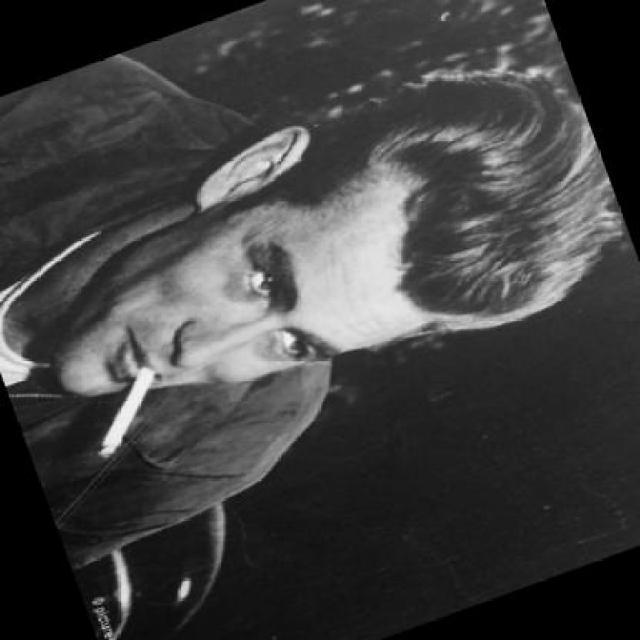cigarette: (66, 361, 179, 464)
